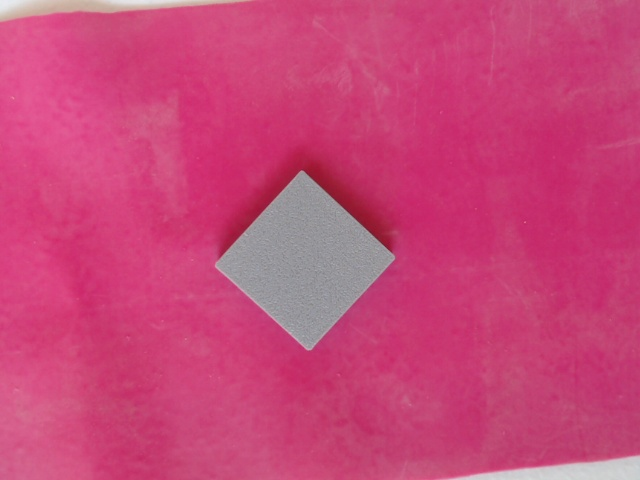Defective: (209, 167, 405, 357)
